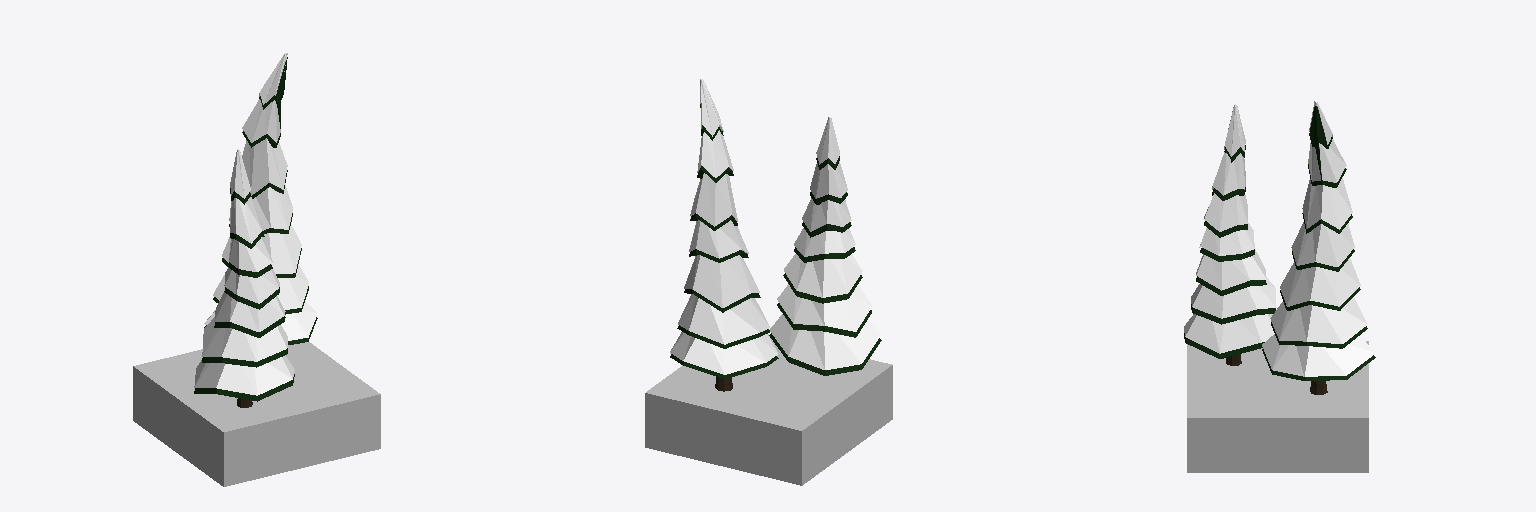
Rendered from Tile_Tree_3.obj.
The picture shows the model from 3 angles: view 1: azimuth 30°, elevation 25°; view 2: azimuth 150°, elevation 25°; view 3: azimuth 270°, elevation 25°; orthographic projection.
Visible parts, largest first — view 1: Cube, Cylinder.004_Cylinder.003, Cylinder.000_Cylinder.004, Cylinder.003_Cylinder.002, Cylinder.001_Cylinder.000; view 2: Cube, Cylinder.000_Cylinder.004, Cylinder.004_Cylinder.003, Cylinder.003_Cylinder.002, Cylinder.001_Cylinder.000; view 3: Cube, Cylinder.000_Cylinder.004, Cylinder.004_Cylinder.003, Cylinder.001_Cylinder.000, Cylinder.003_Cylinder.002.
Part boxes in pixels (bbox=[...]): Cube: bbox=[133, 342, 380, 486]; Cylinder.004_Cylinder.003: bbox=[194, 149, 294, 395]; Cylinder.000_Cylinder.004: bbox=[204, 53, 316, 340]; Cylinder.003_Cylinder.002: bbox=[194, 188, 294, 401]; Cylinder.001_Cylinder.000: bbox=[204, 57, 317, 344]; Cube: bbox=[645, 334, 892, 485]; Cylinder.000_Cylinder.004: bbox=[670, 79, 777, 374]; Cylinder.004_Cylinder.003: bbox=[770, 117, 881, 369]; Cylinder.003_Cylinder.002: bbox=[769, 156, 881, 375]; Cylinder.001_Cylinder.000: bbox=[670, 104, 778, 378]; Cube: bbox=[1187, 341, 1368, 472]; Cylinder.000_Cylinder.004: bbox=[1262, 101, 1375, 376]; Cylinder.004_Cylinder.003: bbox=[1184, 104, 1276, 353]; Cylinder.001_Cylinder.000: bbox=[1262, 106, 1375, 380]; Cylinder.003_Cylinder.002: bbox=[1184, 145, 1275, 358].
Bounding box in the file's own units: 3 × 6.51 × 3.18.